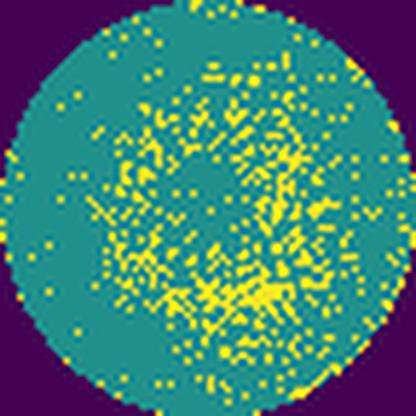Donut: (93, 71, 343, 343)
